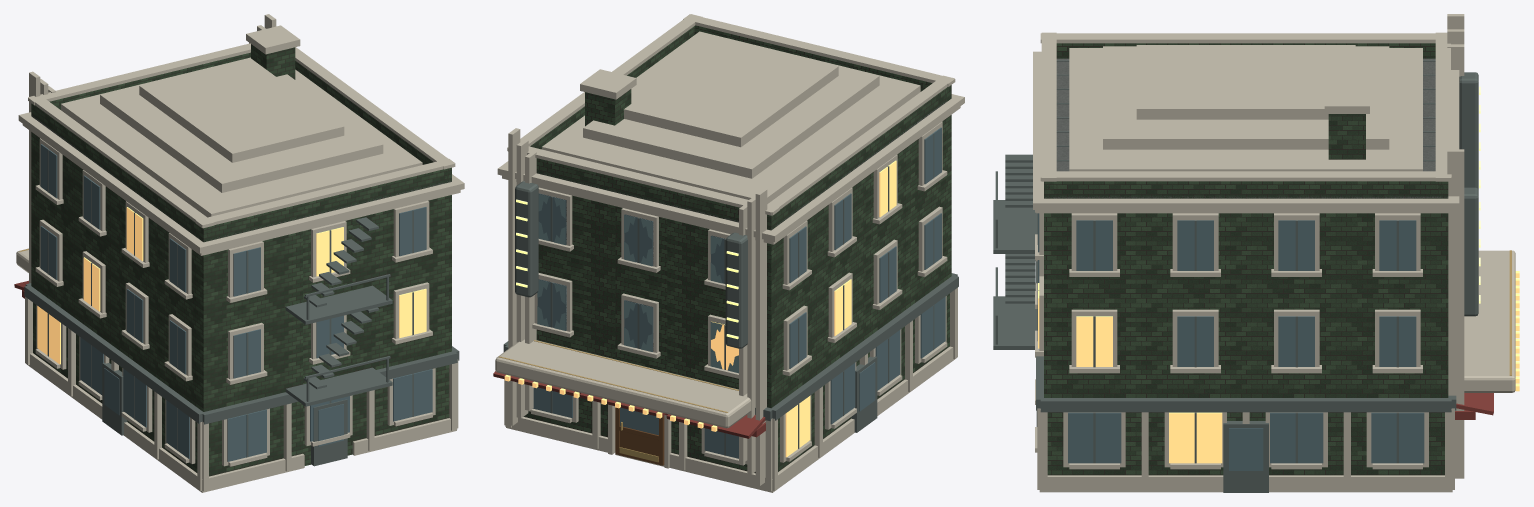
File: goldenlily.glb
3 renders of one model, left to right at view 1: azimuth 30°, elevation 25°; view 2: azimuth 150°, elevation 25°; view 3: azimuth 270°, elevation 25°, orthographic. The views are drawn at different scales.
Parts seen in each view (by area): view 1: foundation wing, masonry wing, window pane, roof tar seam, window pane.005, roof; view 2: foundation wing, masonry wing, roof tar seam, window pane, window pane.012, window pane.005, window glass remnant, canvas awning, door bottom rail, marquee brass edge, door glazing, window pane.011 (+2 smaller); view 3: foundation wing, masonry wing, window pane, roof tar seam, window pane.005, roof, canvas awning.
Part boxes in pixels (<box>): foundation wing: <box>16,14,464,492</box>; masonry wing: <box>31,44,451,476</box>; window pane: <box>40,144,432,461</box>; roof tar seam: <box>24,149,459,466</box>; window pane.005: <box>37,207,426,364</box>; roof: <box>31,115,451,241</box>; foundation wing: <box>495,14,964,492</box>; masonry wing: <box>523,25,951,473</box>; roof tar seam: <box>503,133,958,455</box>; window pane: <box>533,127,945,458</box>; window pane.012: <box>537,193,725,351</box>; window pane.005: <box>504,160,896,457</box>; window glass remnant: <box>537,194,738,373</box>; canvas awning: <box>493,371,765,438</box>; door bottom rail: <box>615,407,664,465</box>; marquee brass edge: <box>498,340,738,412</box>; door glazing: <box>620,407,658,435</box>; window pane.011: <box>711,321,738,370</box>; foundation wing: <box>1033,14,1515,492</box>; masonry wing: <box>1044,43,1448,475</box>; window pane: <box>1038,213,1424,470</box>; roof tar seam: <box>993,60,1478,492</box>; window pane.005: <box>1038,271,1519,463</box>; roof: <box>1045,58,1447,198</box>; canvas awning: <box>1455,393,1493,419</box>.
Bounding box in the file's own units: 10.65 × 12.06 × 15.61.
13 materials, 2 textured.
